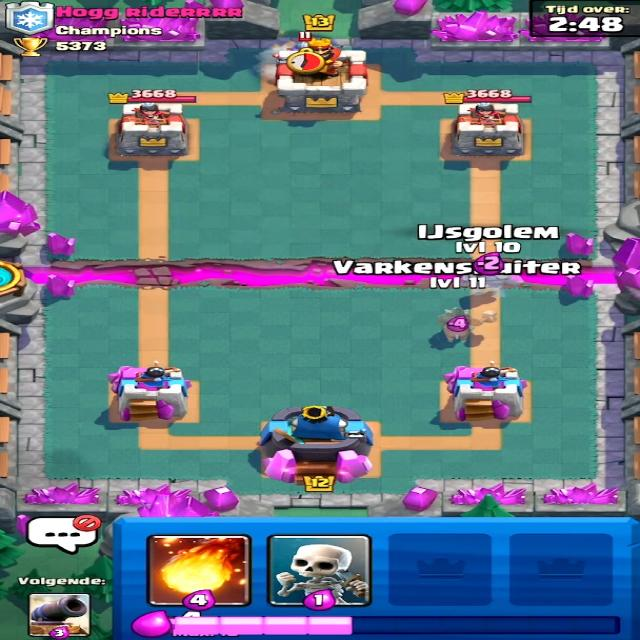Fireball_Card: (143, 539, 246, 607)
Skeleton_Card: (270, 534, 373, 607)
